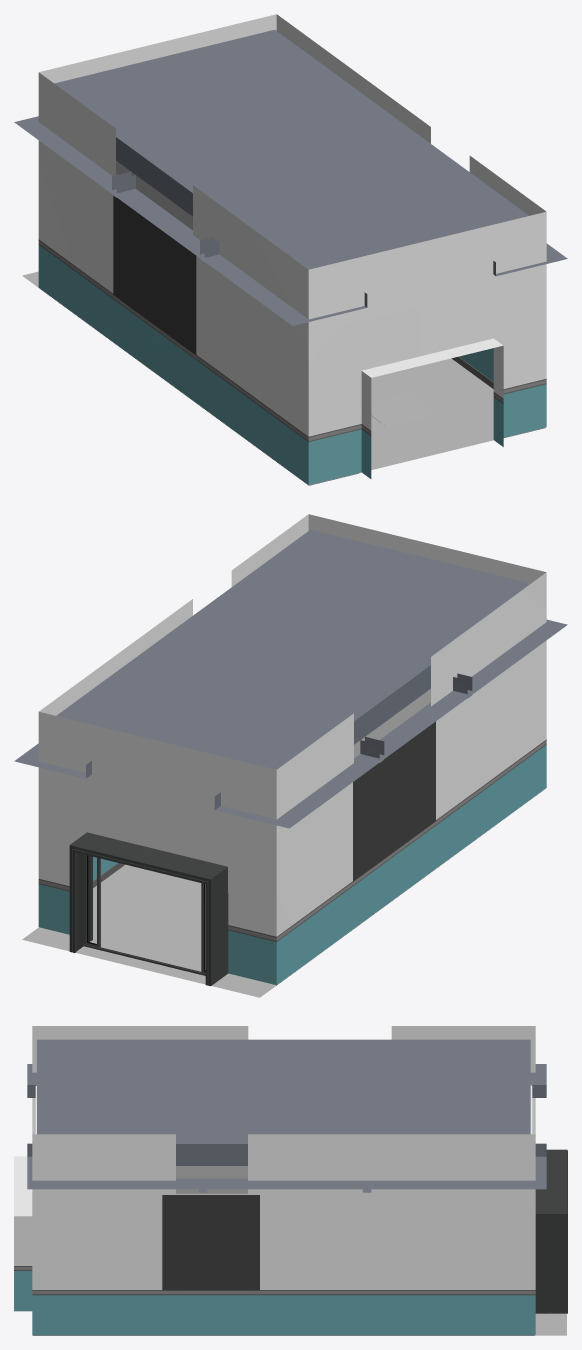
File: SM_H_Building_Tide_MedicalRoom_26_ATLAS.fbx
The picture shows the model from 3 angles, top to bottom: view 1: azimuth 30°, elevation 25°; view 2: azimuth 150°, elevation 25°; view 3: azimuth 270°, elevation 25°; orthographic projection. The views are drawn at different scales.
Visible parts, largest first — view 1: SM_H_Building_Tide_MedicalRoom_26_ATLAS; view 2: SM_H_Building_Tide_MedicalRoom_26_ATLAS; view 3: SM_H_Building_Tide_MedicalRoom_26_ATLAS.
Part boxes in pixels (<box>): SM_H_Building_Tide_MedicalRoom_26_ATLAS: <box>14,14,567,485</box>; SM_H_Building_Tide_MedicalRoom_26_ATLAS: <box>14,514,567,997</box>; SM_H_Building_Tide_MedicalRoom_26_ATLAS: <box>14,1026,567,1335</box>.
Bounding box in the file's own units: 736 × 1375 × 553.
